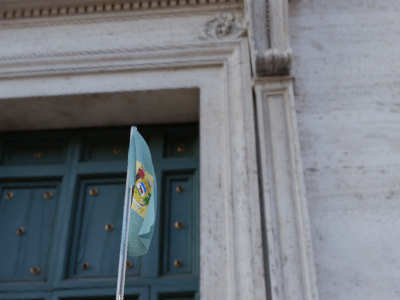Delaware flag: (126, 123, 161, 263)
